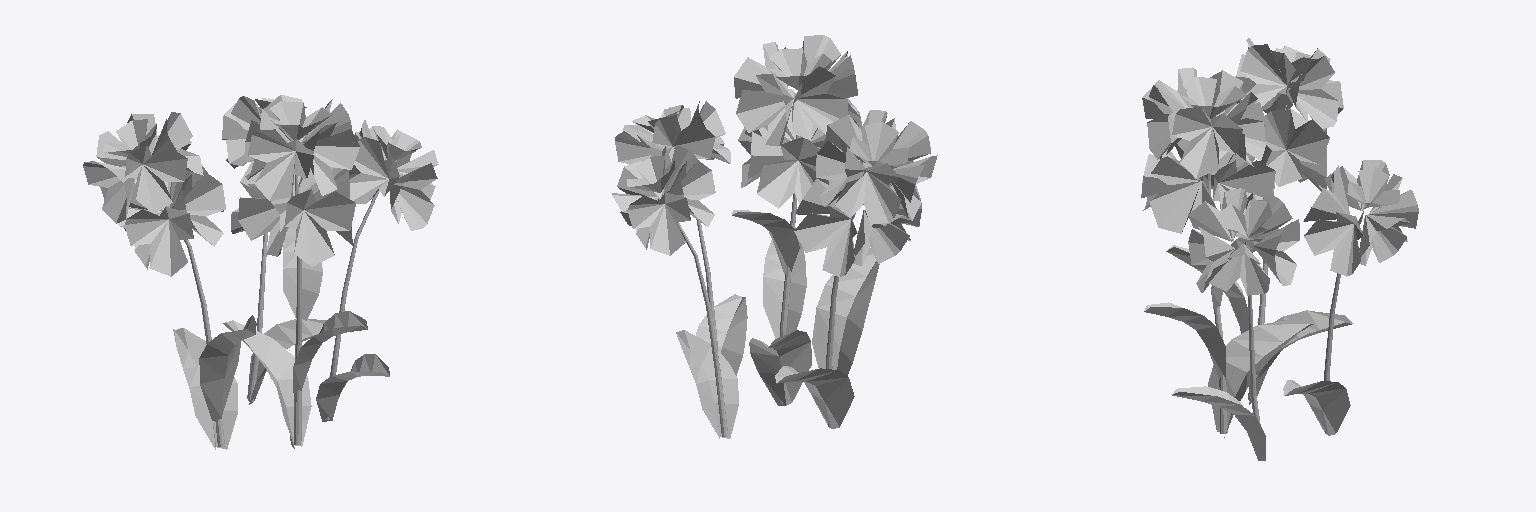
The model's file is Flower_2_Group.obj.
3 renders of one model, left to right at view 1: azimuth 30°, elevation 25°; view 2: azimuth 150°, elevation 25°; view 3: azimuth 270°, elevation 25°, orthographic.
Parts seen in each view (by area): view 1: Flower_2_Group; view 2: Flower_2_Group; view 3: Flower_2_Group.
Part boxes in pixels (left/top/right/bottom): Flower_2_Group: left=83, top=95, right=438, bottom=449; Flower_2_Group: left=612, top=35, right=937, bottom=438; Flower_2_Group: left=1141, top=38, right=1418, bottom=460.
Bounding box in the file's own units: 1.52 × 1.57 × 1.14.